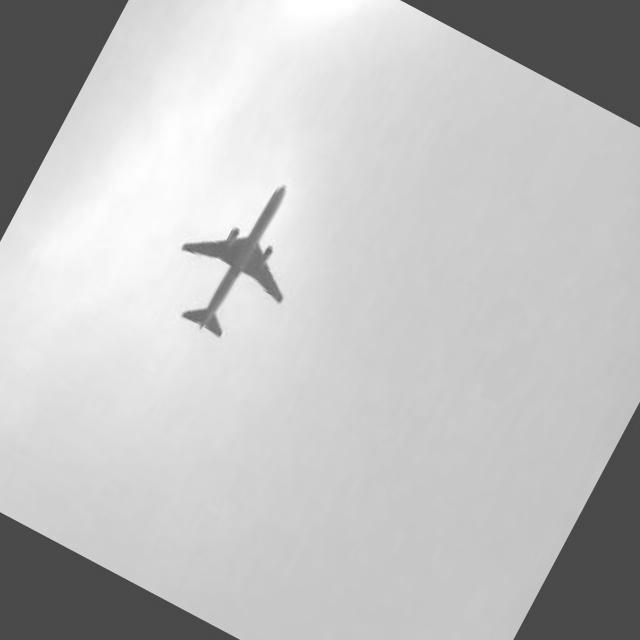aeroplane: (152, 154, 331, 353)
